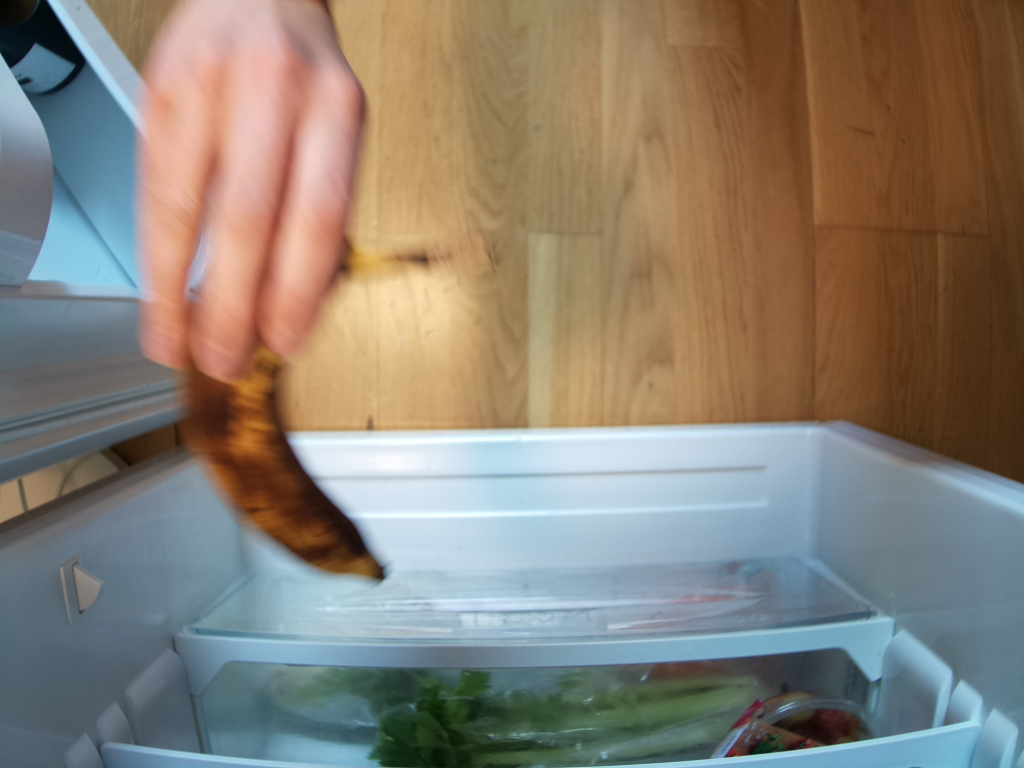banana-overripe: (182, 226, 484, 580)
